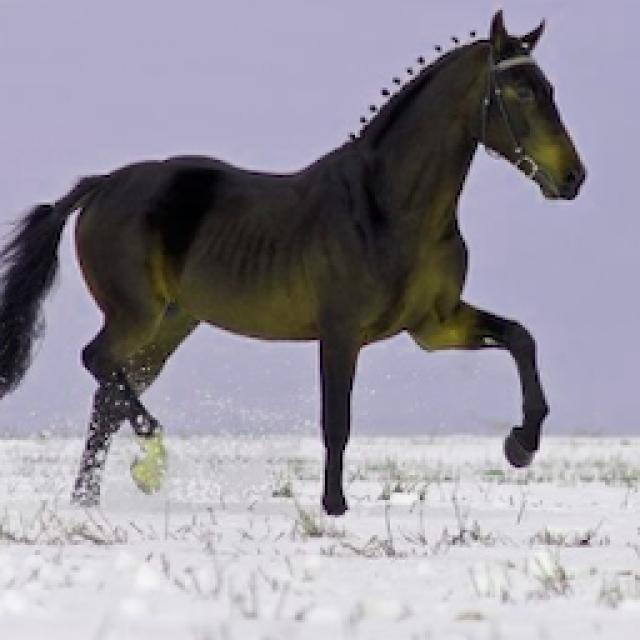Horse: (2, 5, 598, 525)
